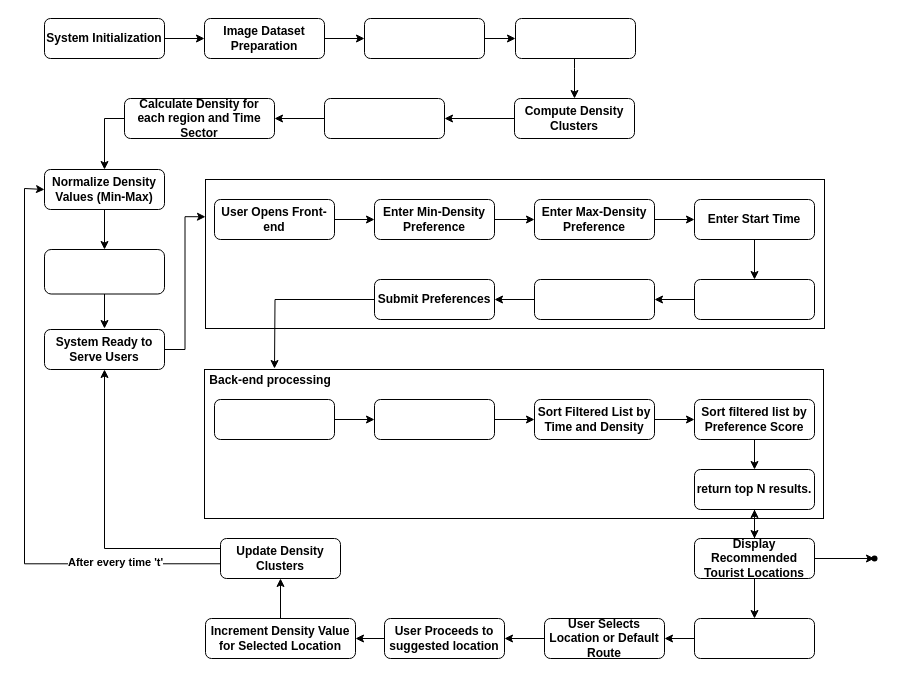
Some shapes in this 902 by 677 pixel diagram are drawn without their labels. Here are the shapes that lost their labels. From the top down, the box of each, then its label:
(364, 18, 484, 58): Extract Geo-tag and Timestamp Metadata
(514, 18, 636, 58): Create Tourist Spot Objects
(324, 98, 444, 138): Create Time Sectors
(44, 248, 164, 294): Store Normalized Densities
(204, 178, 824, 328): User Interaction
(534, 278, 654, 320): Enter Number of spots to recommend
(694, 278, 814, 320): Enter End Time
(214, 398, 334, 440): Receive API Call with User Preferences.
(374, 398, 494, 440): Filter Tourist Spots by Time and Density
(694, 618, 814, 658): Show Normalized Densities
